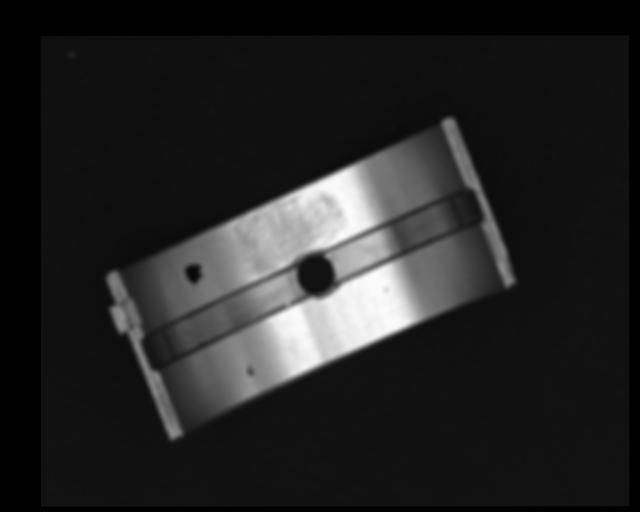blot: (184, 263, 204, 284)
bruise: (244, 363, 256, 378), (383, 287, 388, 293)
gap: (139, 265, 306, 370), (326, 186, 487, 282)
hole: (289, 249, 340, 301)
nick: (266, 317, 292, 352)
scratch: (230, 190, 348, 272)
